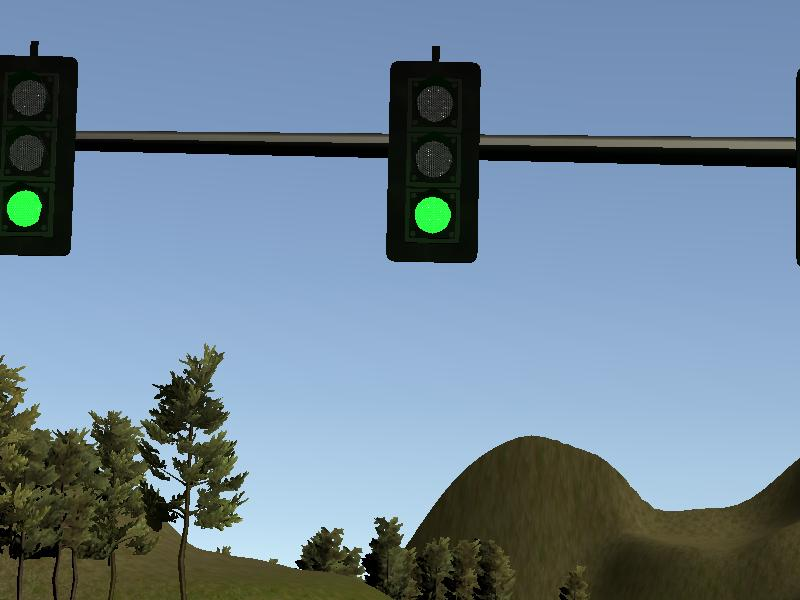green: (390, 60, 479, 264), (1, 54, 74, 259)
